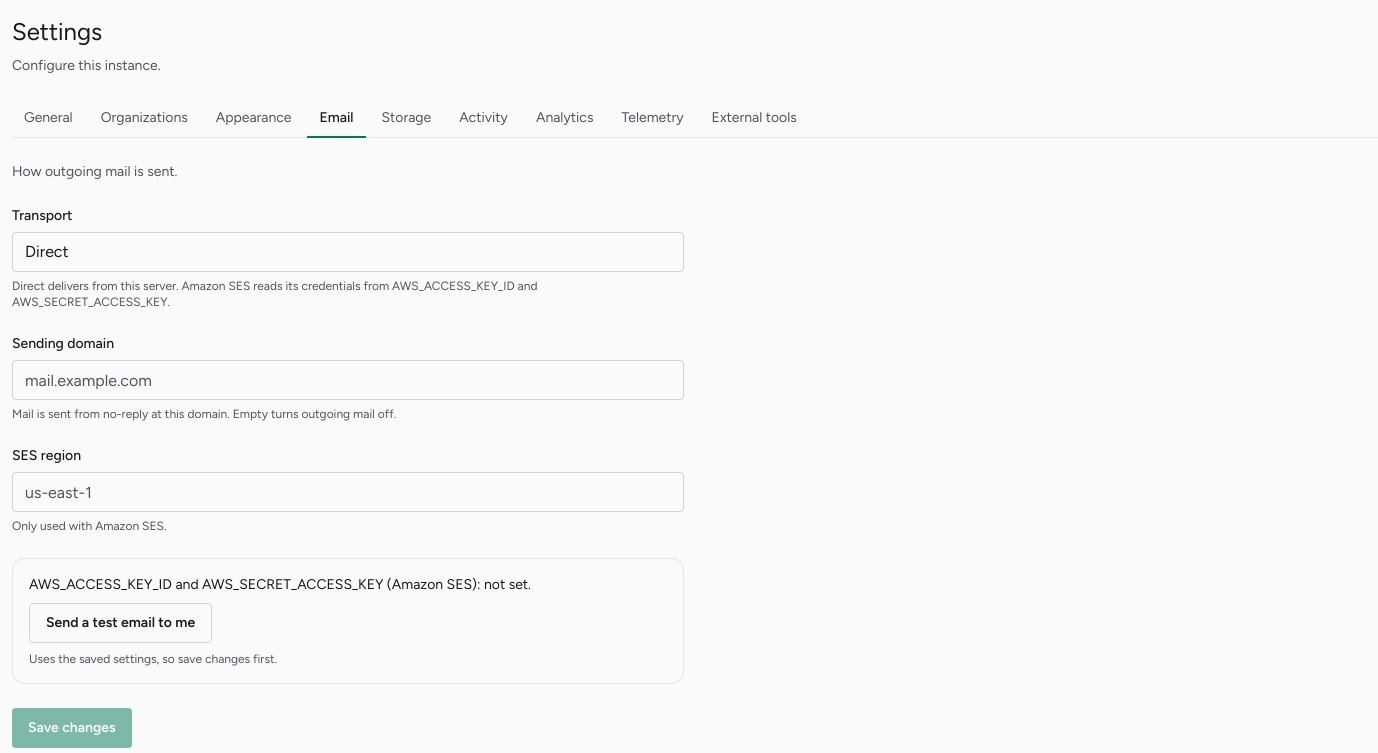
InfraSettingsPage › shows a field error where it belongs and keeps the edit
The image size is (1378, 753).
Step 1. Type "not a domain" into the field labelled "Sending domain" → (348, 380), box left=12, top=360, right=684, bottom=400
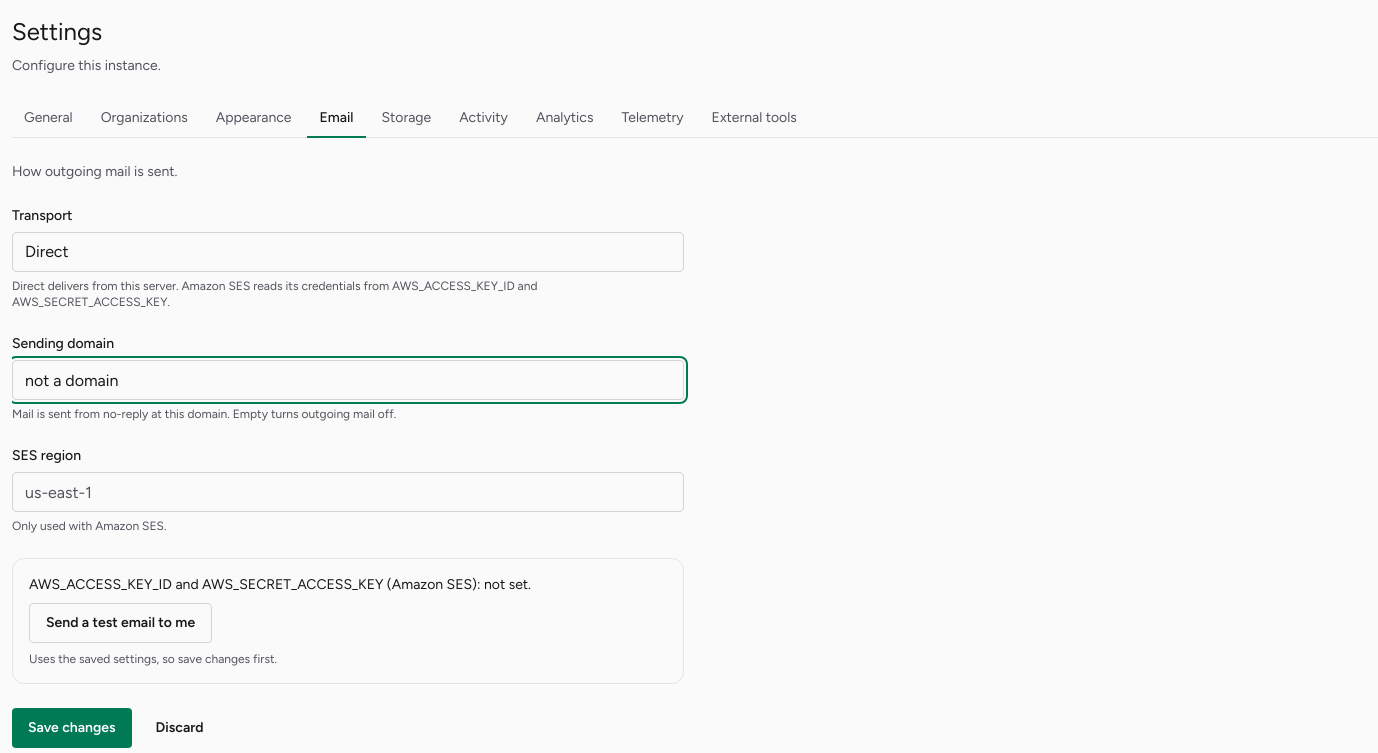
Step 2. Click the button "Save changes" → (72, 728), box left=12, top=708, right=132, bottom=748
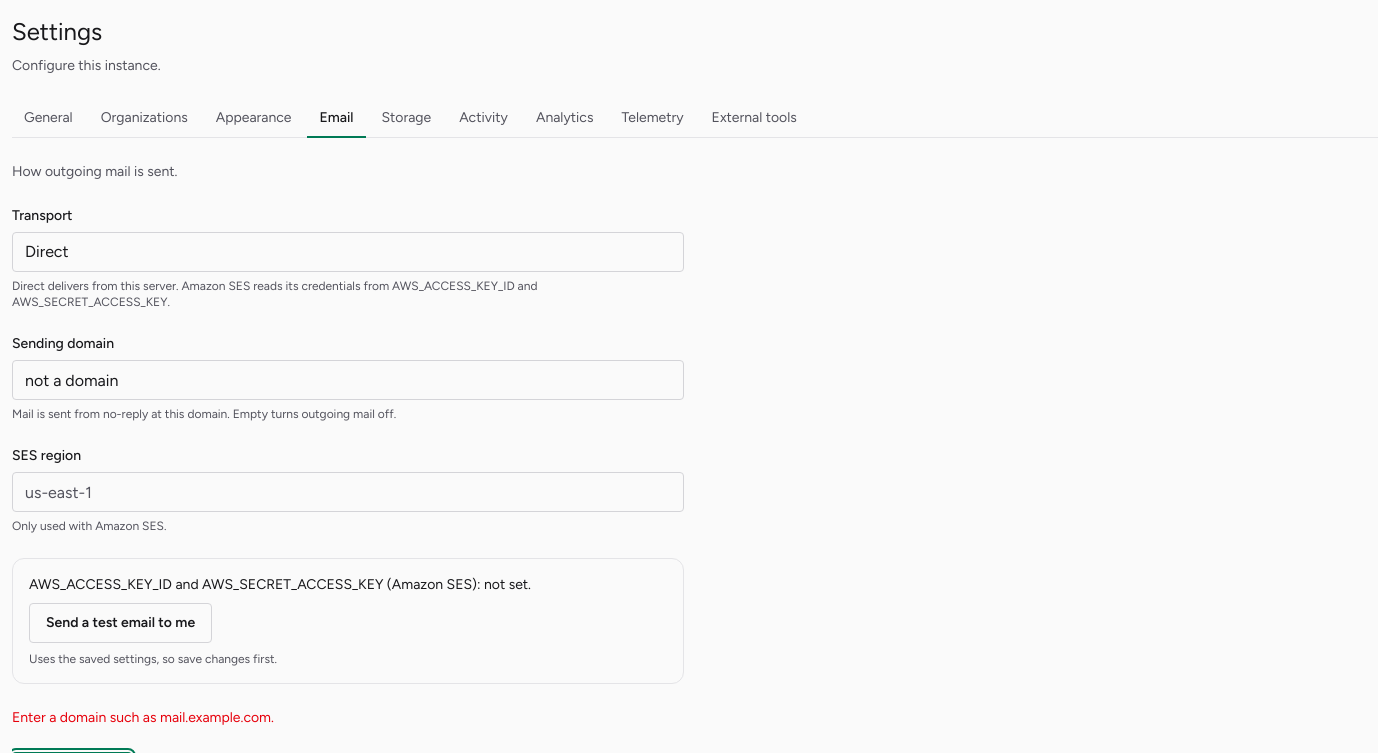
Expected: the message shows "Enter a domain", left=12, top=709, right=274, bottom=726
